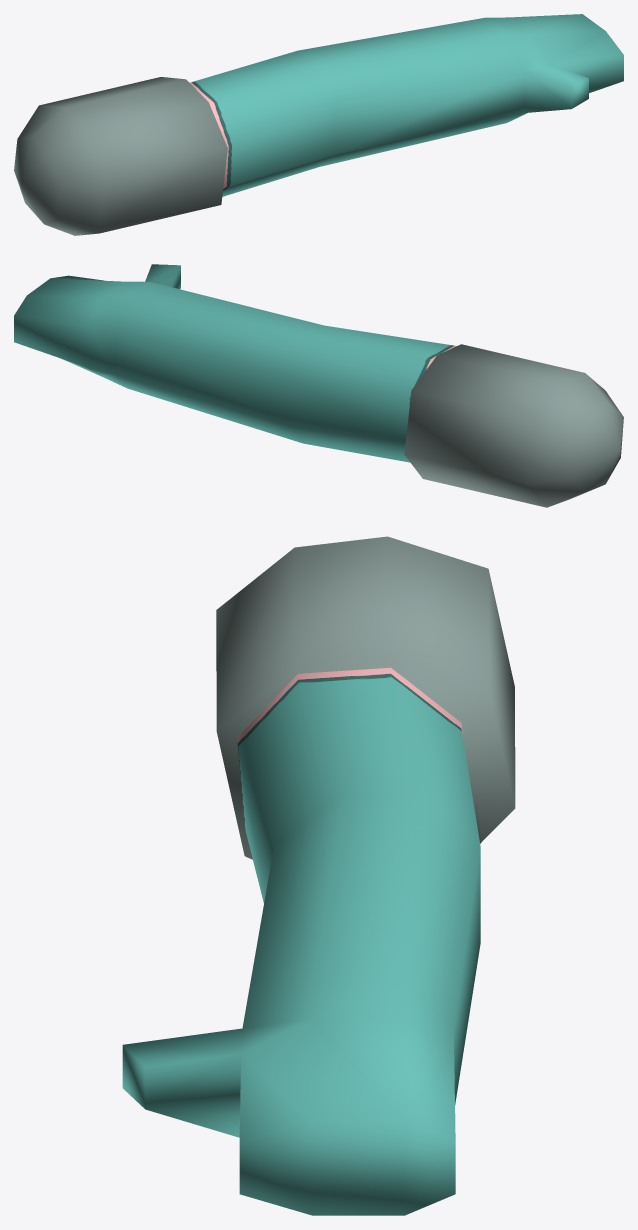
Rendered from armL.obj.
The picture shows the model from 3 angles, top to bottom: view 1: azimuth 30°, elevation 25°; view 2: azimuth 150°, elevation 25°; view 3: azimuth 270°, elevation 25°; orthographic projection. The views are drawn at different scales.
Visible parts, largest first — view 1: armL; view 2: armL; view 3: armL.
Part boxes in pixels (x1,y1,x2,y2): armL: [14, 14, 623, 235]; armL: [14, 264, 623, 507]; armL: [122, 536, 515, 1215].
Bounding box in the file's own units: 1.03 × 0.2098 × 0.3052.
1 material, 1 textured.
